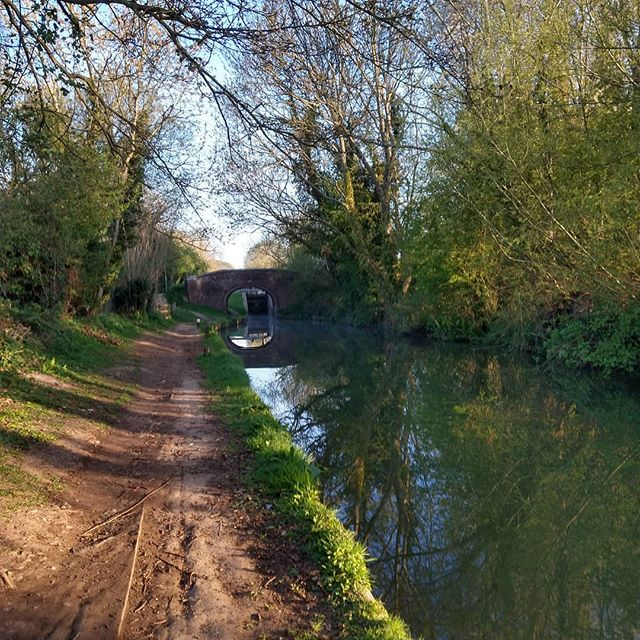bridge: (179, 257, 322, 312)
river: (233, 302, 640, 640)
road: (26, 321, 331, 631)
vegetation: (310, 1, 640, 317), (1, 1, 177, 315)
